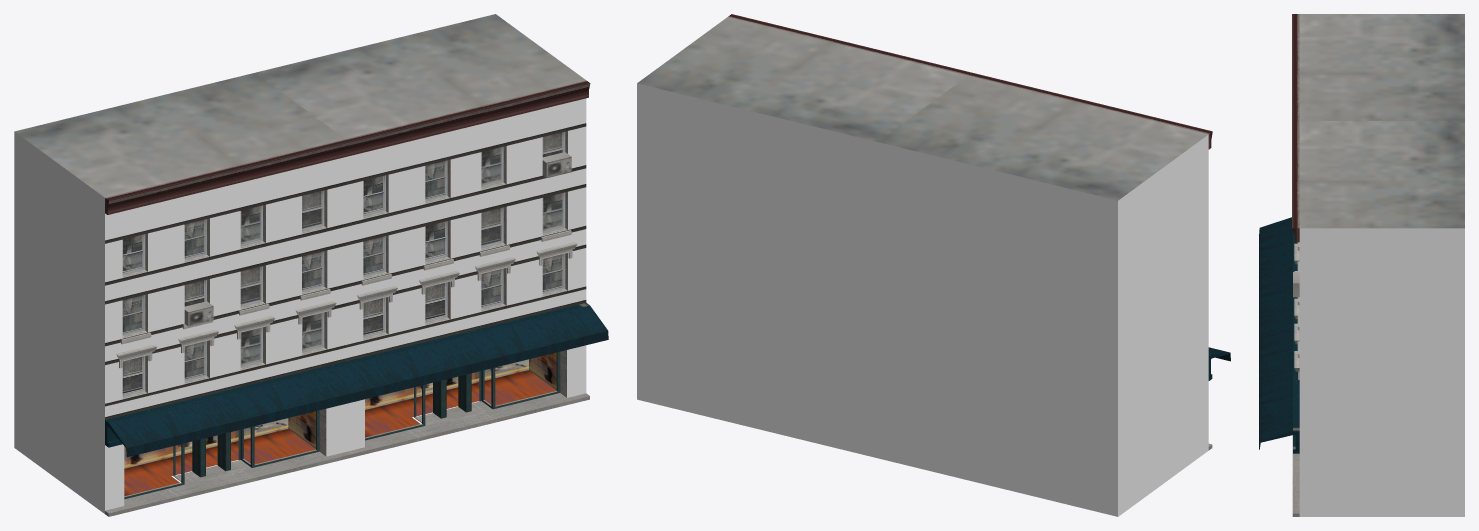
The model's file is Building_C.fbx.
3 renders of one model, left to right at view 1: azimuth 30°, elevation 25°; view 2: azimuth 150°, elevation 25°; view 3: azimuth 270°, elevation 25°, orthographic. The views are drawn at different scales.
Parts seen in each view (by area): view 1: City_Market_01:Building C003; view 2: City_Market_01:Building C003; view 3: City_Market_01:Building C003.
Boxes of the visible parts, left/top/right/bottom form: City_Market_01:Building C003: left=14, top=14, right=608, bottom=516; City_Market_01:Building C003: left=637, top=14, right=1230, bottom=516; City_Market_01:Building C003: left=1259, top=14, right=1464, bottom=516.
Bounding box in the file's own units: 15.63 × 9.82 × 6.35.
